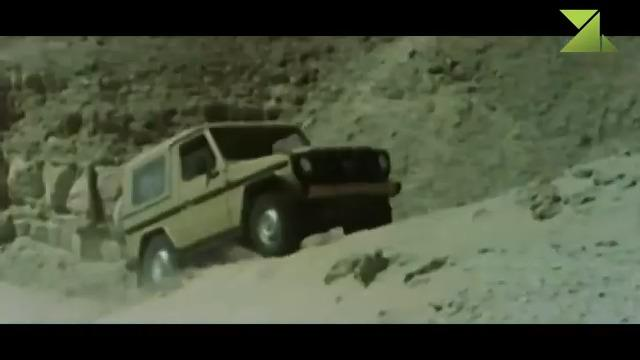MIL_HMMWV: (110, 120, 404, 287)
